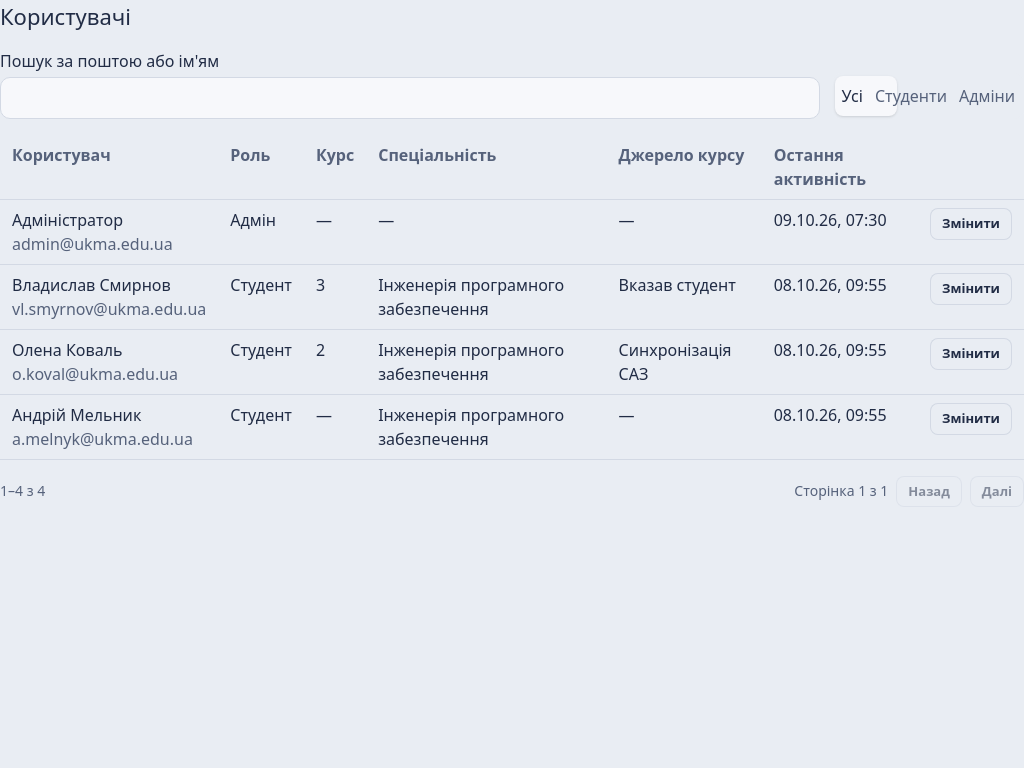
Test: UserEditor › «Змінити» відкриває форму з поточними значеннями; «Зберегти» неактивна без змін
Step 1. Click the button "Змінити" in the row of "Владислав Смирнов" → (971, 289), box x1=930 y1=273 x2=1012 y2=304
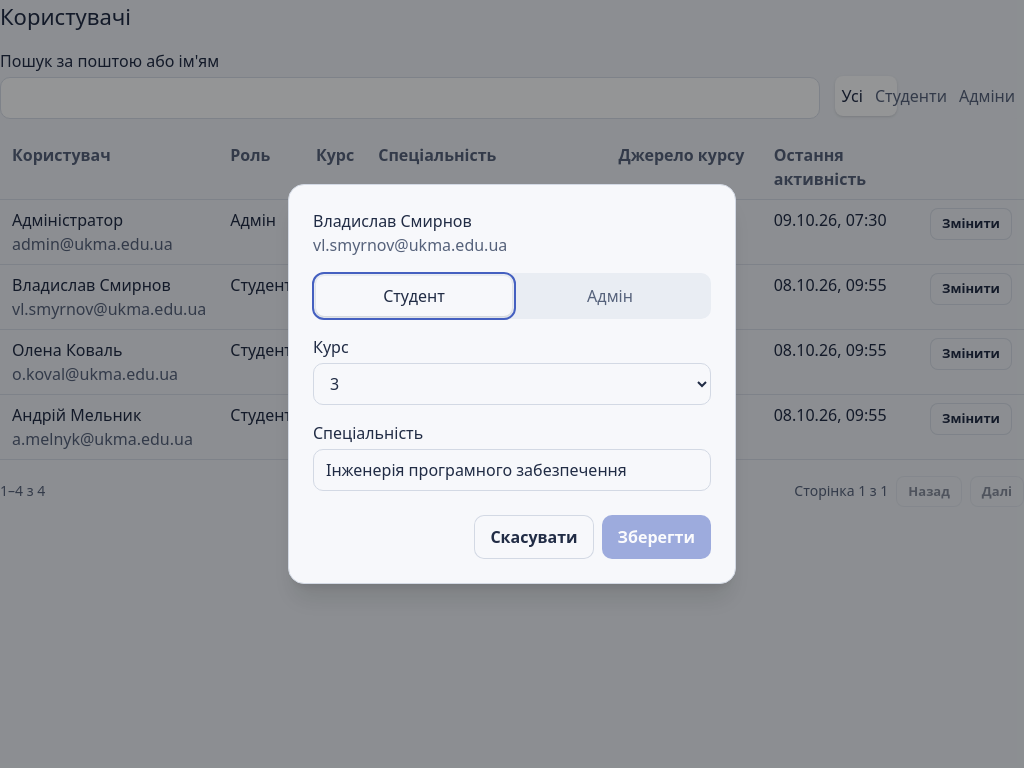
Result: the dropdown labelled "Курс" shows "3" at x1=313 y1=363 x2=711 y2=405
Result: the field labelled "Спеціальність" holds "Інженерія програмного забезпечення" at x1=313 y1=449 x2=711 y2=491
Result: the button "Зберегти" is disabled at x1=602 y1=515 x2=711 y2=559
